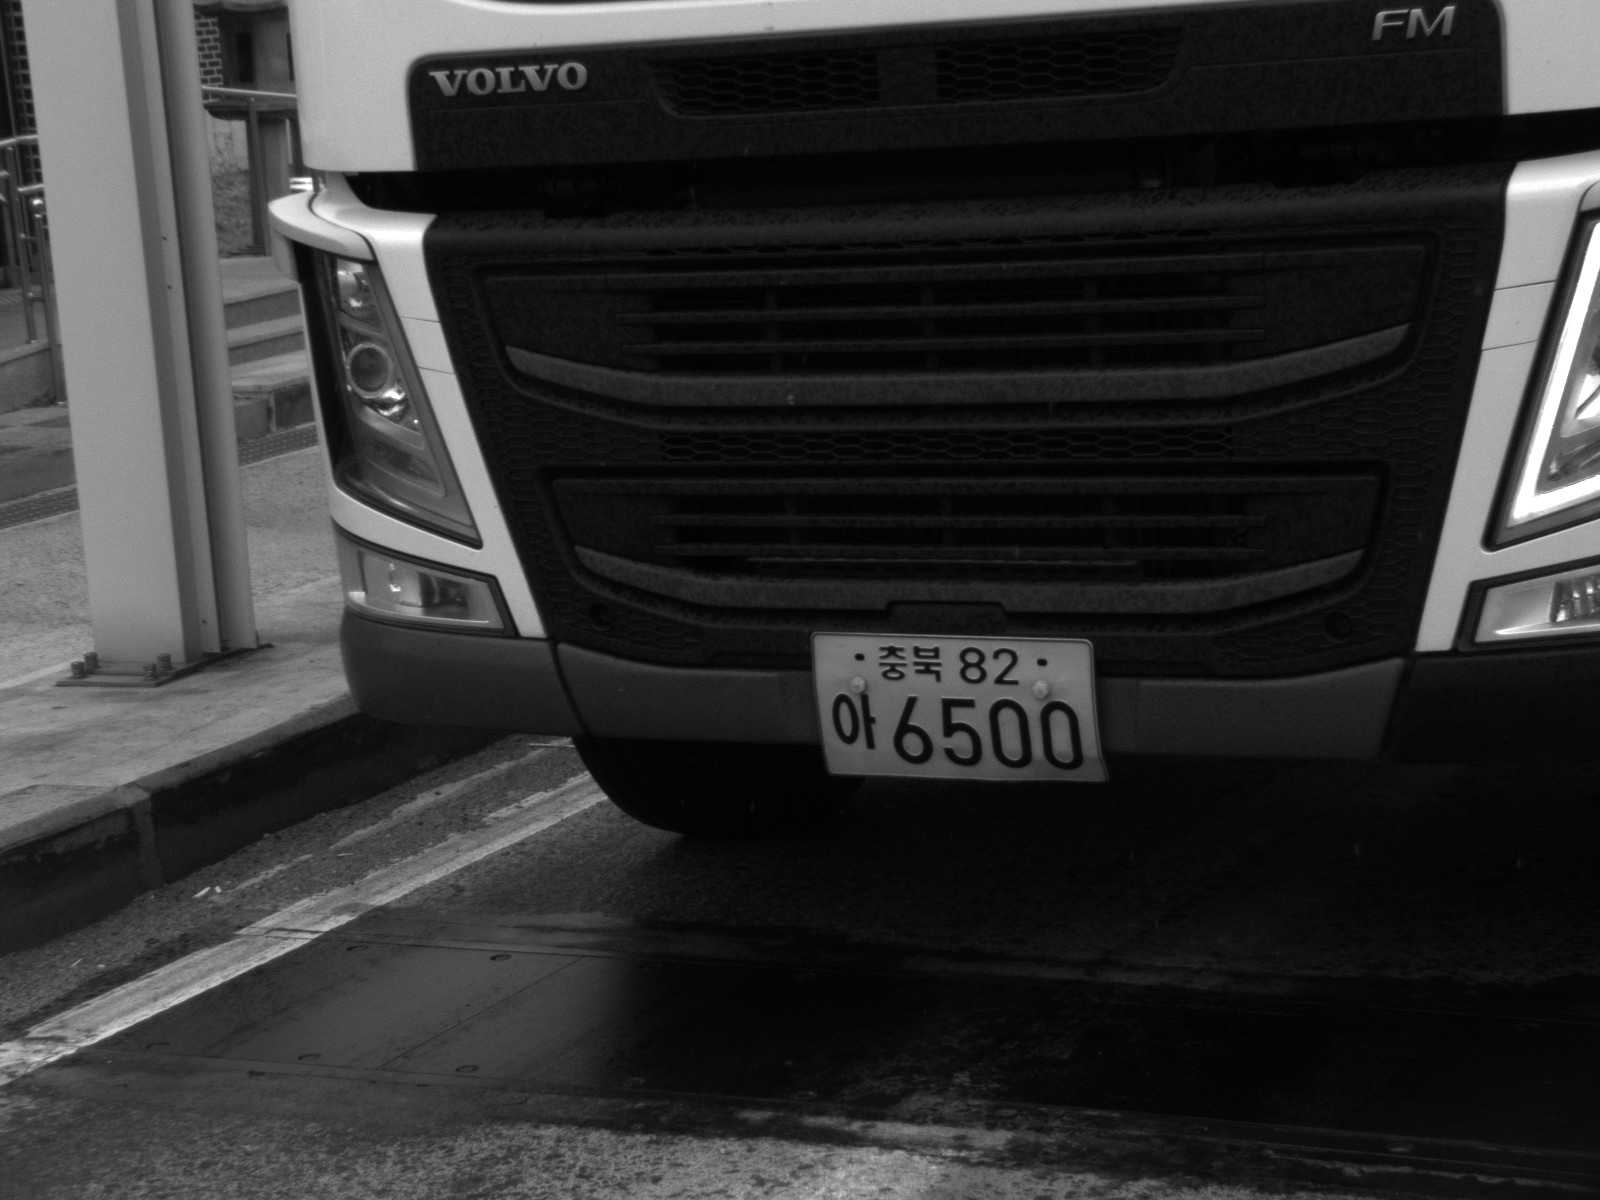car: (282, 1, 1600, 835)
plate: (814, 632, 1110, 782)
